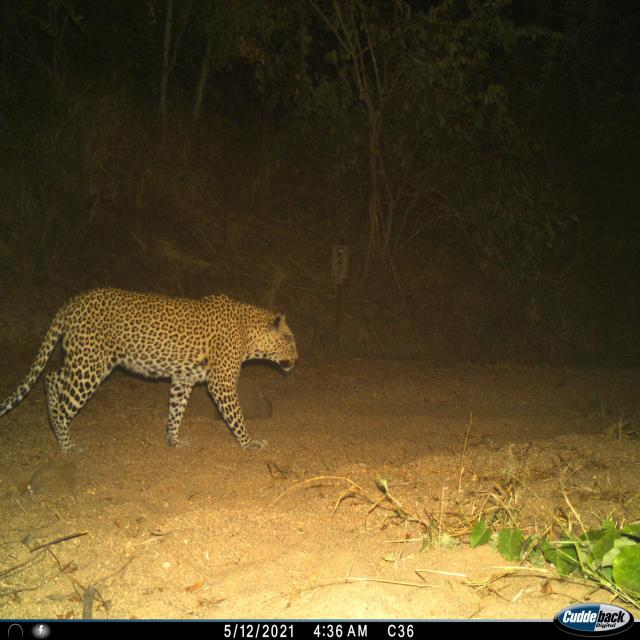Leopard: (2, 284, 303, 466)
